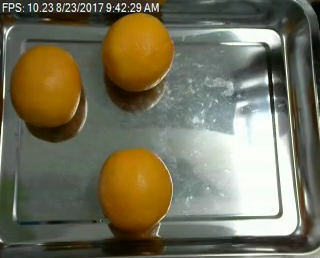Orange: (99, 148, 173, 231), (10, 44, 82, 126), (103, 12, 175, 91)
